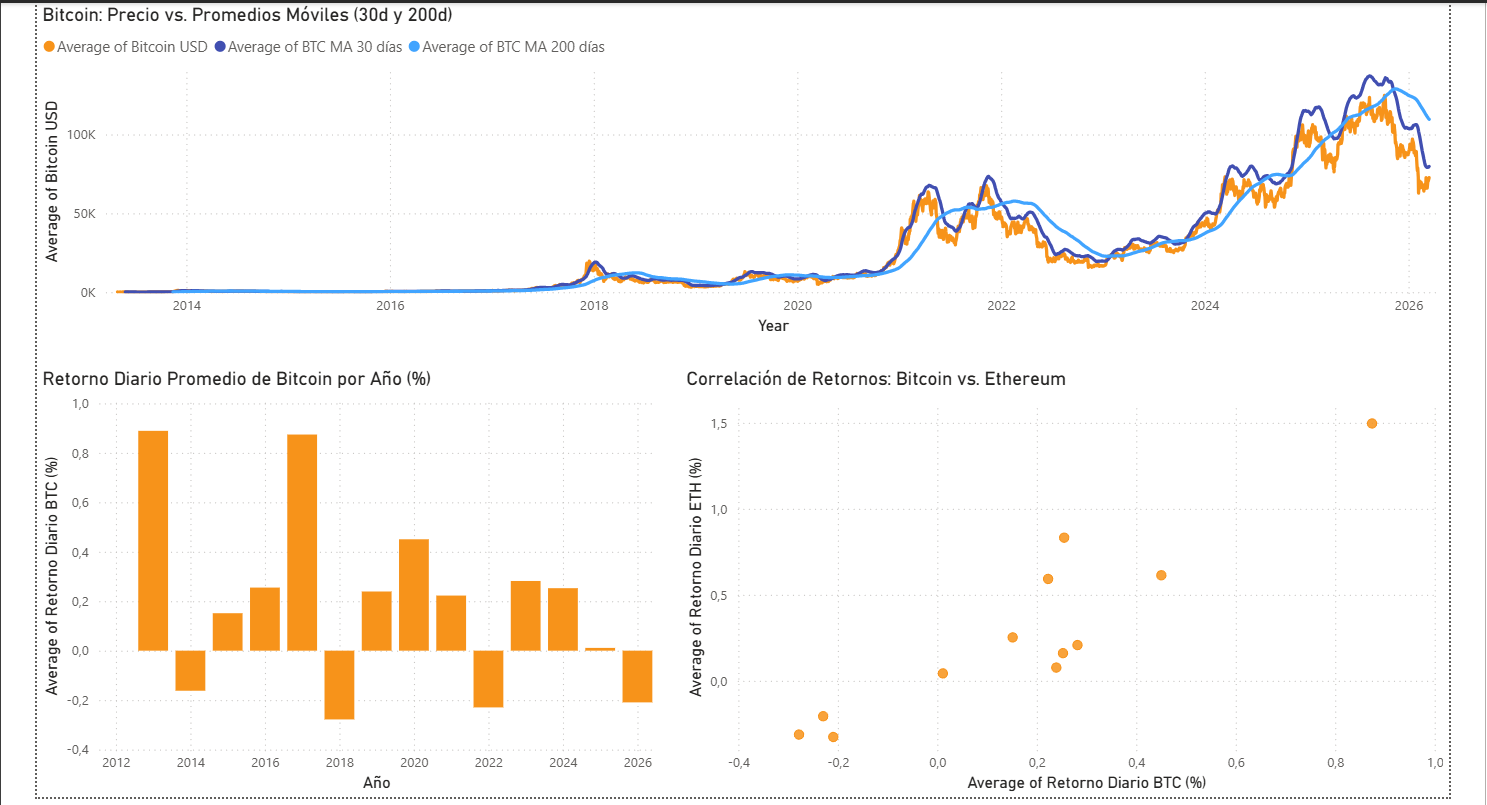

The page's visual inventory and layout, read from the dashboard file:
{"tool":"powerbi","page":{"name":"Análisis de Tendencia","canvas":[1280,720],"ordinal":2},"visuals":[{"type":"lineChart","title":"Bitcoin: Precio vs. Promedios Móviles (30d y 200d)","fields":{"Category":["crypto_vs_peso_clean.date.Variation.Date Hierarchy.Year","crypto_vs_peso_clean.date.Variation.Date Hierarchy.Quarter","crypto_vs_peso_clean.date.Variation.Date Hierarchy.Month","crypto_vs_peso_clean.date.Variation.Date Hierarchy.Day"],"Y2":["Avg(crypto_vs_peso_clean.btc_ma_30d)","Avg(crypto_vs_peso_clean.btc_ma_200d)"],"Y":["Avg(crypto_vs_peso_clean.btc_usd)"]},"box":[0,0,1280.4,305.6],"z":0},{"type":"clusteredColumnChart","title":"Retorno Diario Promedio de Bitcoin por Año (%)","fields":{"Category":["crypto_vs_peso_clean.anio"],"Y":["Avg(crypto_vs_peso_clean.btc_retorno_diario_pct)"]},"box":[0,330.1,564,389.9],"z":1000},{"type":"scatterChart","title":"Correlación de Retornos: Bitcoin vs. Ethereum","fields":{"X":["Avg(crypto_vs_peso_clean.btc_retorno_diario_pct)"],"Y":["Avg(crypto_vs_peso_clean.eth_retorno_diario_pct)"],"Category":["crypto_vs_peso_clean.date.Variation.Date Hierarchy.Year","crypto_vs_peso_clean.date.Variation.Date Hierarchy.Quarter","crypto_vs_peso_clean.date.Variation.Date Hierarchy.Month","crypto_vs_peso_clean.date.Variation.Date Hierarchy.Day"]},"box":[584,330.1,696.4,389.9],"z":2000}]}

Visuals, with their boxes on the page's 1280x720 design canvas (x1, y1, x2, y2). These are canvas units, not pixel positions in the 1487x805 screenshot, which may show the page scaled, cropped or inside an application window:
"Bitcoin: Precio vs. Promedios Móviles (30d y 200d)" lineChart: select_region(0, 0, 1280, 306)
"Retorno Diario Promedio de Bitcoin por Año (%)" clusteredColumnChart: select_region(0, 330, 564, 720)
"Correlación de Retornos: Bitcoin vs. Ethereum" scatterChart: select_region(584, 330, 1280, 720)
